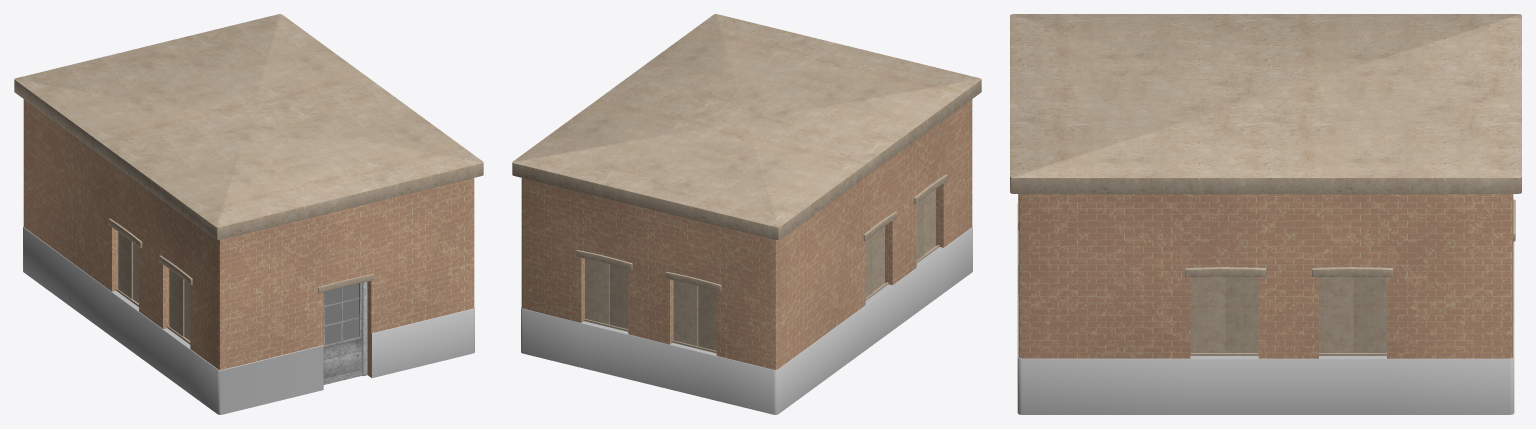
Rendered from SM_House_01.FBX.
The picture shows the model from 3 angles, left to right: view 1: azimuth 30°, elevation 25°; view 2: azimuth 150°, elevation 25°; view 3: azimuth 270°, elevation 25°; orthographic projection. The views are drawn at different scales.
Visible parts, largest first — view 1: SM_House_01; view 2: SM_House_01; view 3: SM_House_01.
Boxes of the visible parts, x1,y1,x2,y2 form: SM_House_01: (14, 14, 483, 414); SM_House_01: (512, 14, 981, 414); SM_House_01: (1010, 14, 1521, 414).
Bounding box in the file's own units: 6.28 × 4.29 × 8.28.
